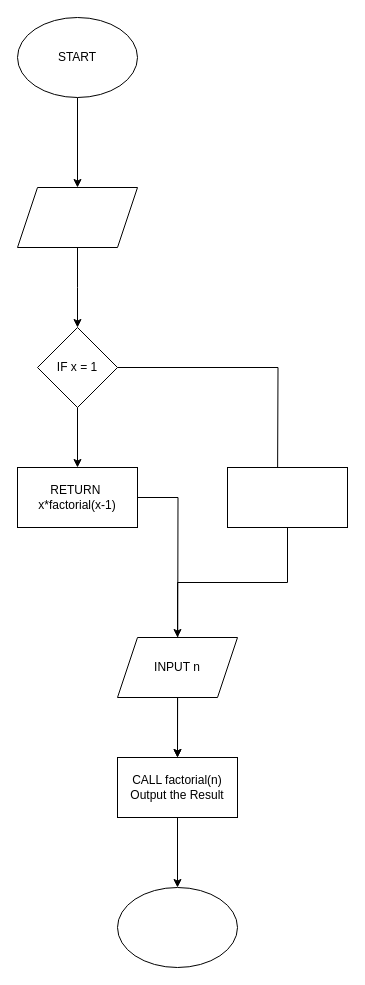
Some shapes in this 365 by 985 pixel diagram are drawn without their labels. Each missing label, with the centre of its shape:
"DEFINE factorial(x)" goes at (x=77, y=217).
"RETURN 1" goes at (x=287, y=497).
"STOP" goes at (x=177, y=927).
